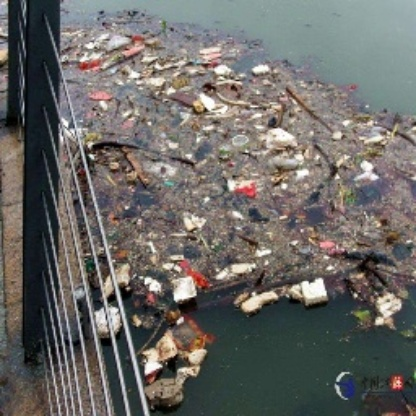plastic-garbage: (296, 279, 332, 308), (170, 276, 199, 305)
